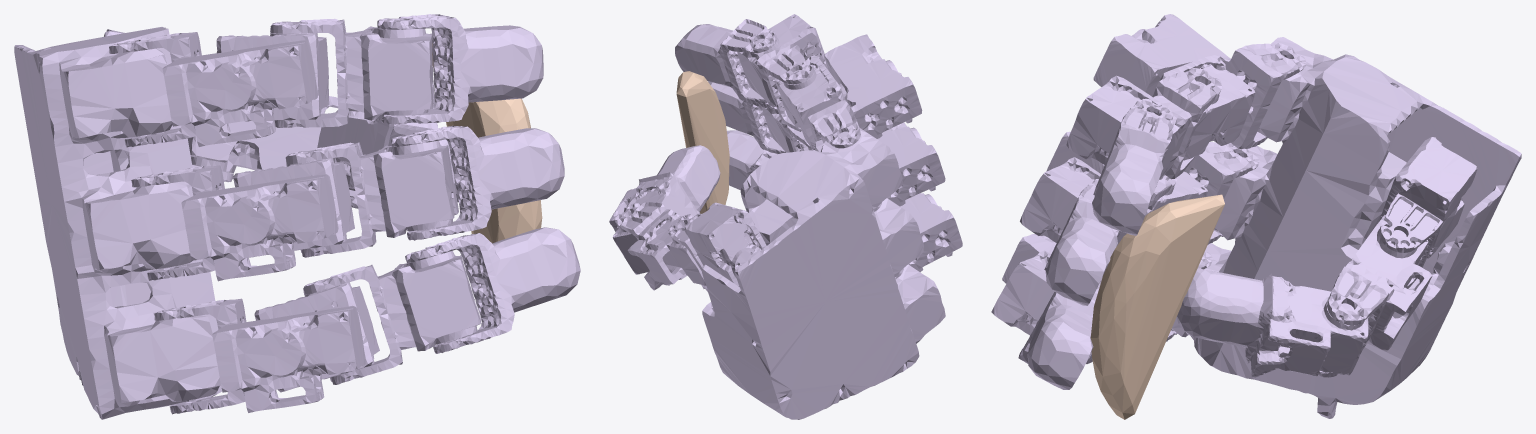
3 renders of one model, left to right at view 1: azimuth 30°, elevation 25°; view 2: azimuth 150°, elevation 25°; view 3: azimuth 270°, elevation 25°, orthographic. The views are drawn at different scales.
Parts seen in each view (by area): view 1: LEAP_hand, world; view 2: LEAP_hand, world; view 3: LEAP_hand, world.
Boxes of the visible parts, x1,y1,x2,y2 form: LEAP_hand: [14, 14, 580, 419]; world: [432, 43, 542, 243]; LEAP_hand: [609, 14, 962, 419]; world: [676, 71, 729, 213]; LEAP_hand: [991, 14, 1521, 418]; world: [1090, 194, 1224, 419].
Bounding box in the file's own units: 0.1527 × 0.155 × 0.2008.
